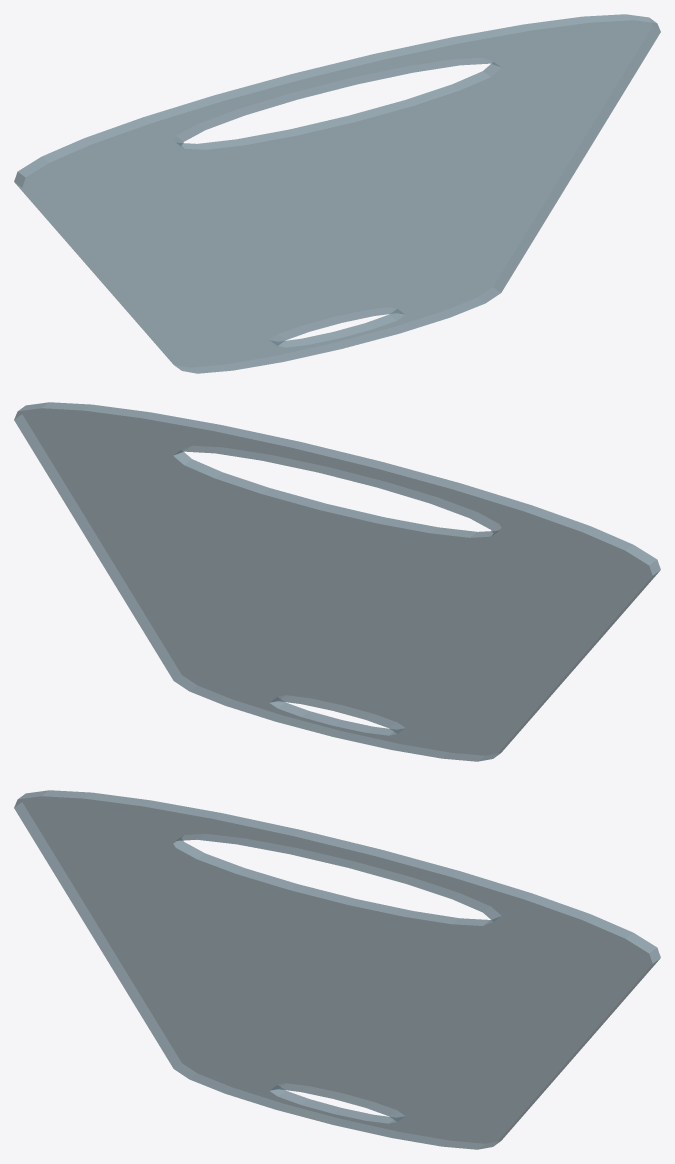
The model's file is glass.obj.
The picture shows the model from 3 angles, top to bottom: view 1: azimuth 30°, elevation 25°; view 2: azimuth 150°, elevation 25°; view 3: azimuth 330°, elevation 25°; orthographic projection.
Visible parts, largest first — view 1: arm_3; view 2: arm_3; view 3: arm_3.
Boxes of the visible parts, x1,y1,x2,y2 form: arm_3: (14, 14, 660, 373); arm_3: (14, 402, 660, 761); arm_3: (14, 790, 660, 1149).
Bounding box in the file's own units: 4.48 × 1.87 × 0.1.
